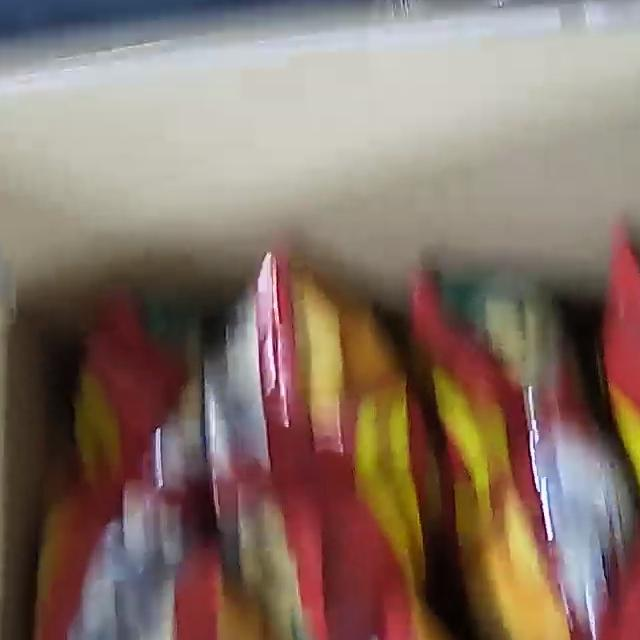masala: (28, 231, 640, 640)
